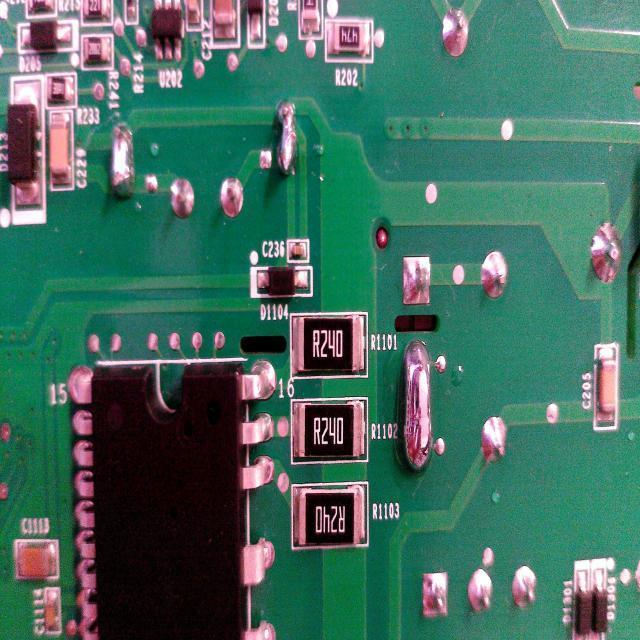Soldering shorted: (400, 336, 435, 478), (106, 119, 138, 208), (274, 100, 300, 182)
